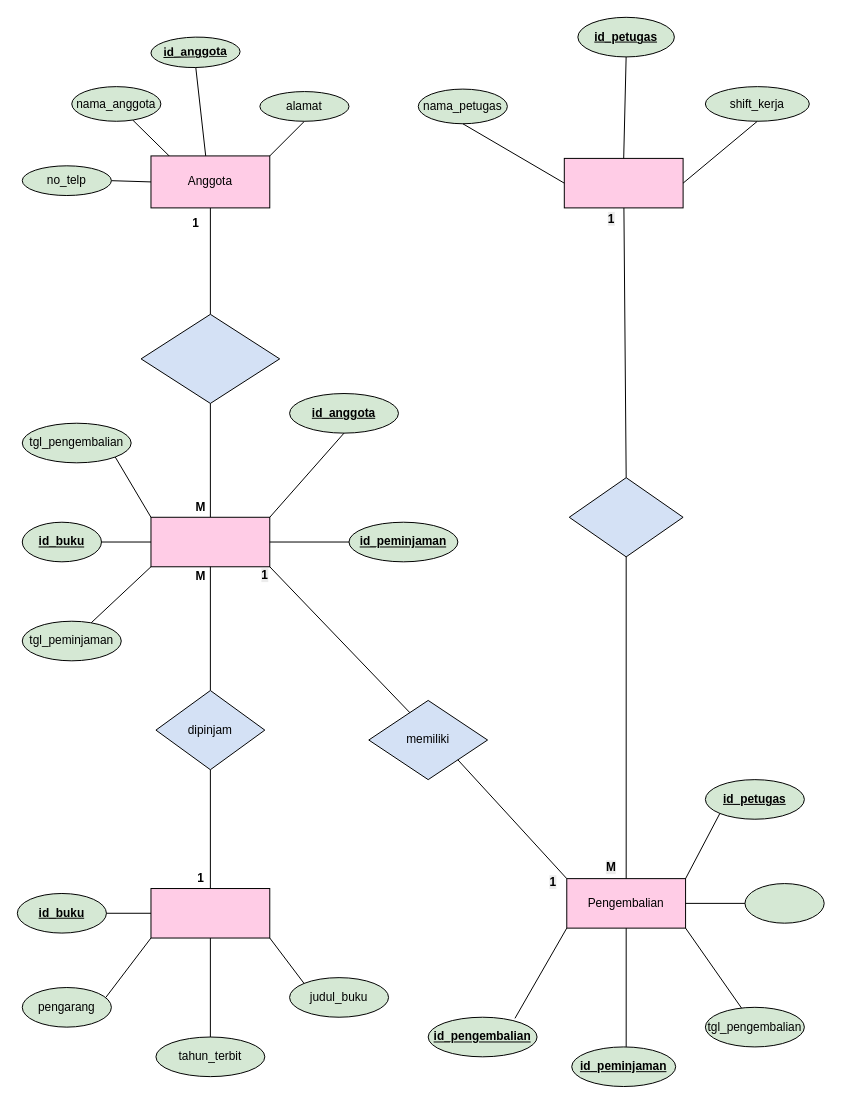
Some shapes in this 842 by 1104 pixel diagram are drawn without their labels. Here are the shapes that lost their labels. From the top down, the box of each, then its label:
(563, 157, 683, 208): Petugas
(140, 313, 280, 403): melakukan
(568, 477, 683, 557): dikelola
(150, 516, 270, 567): Peminjaman
(150, 888, 270, 938): Buku
(744, 883, 824, 923): denda
